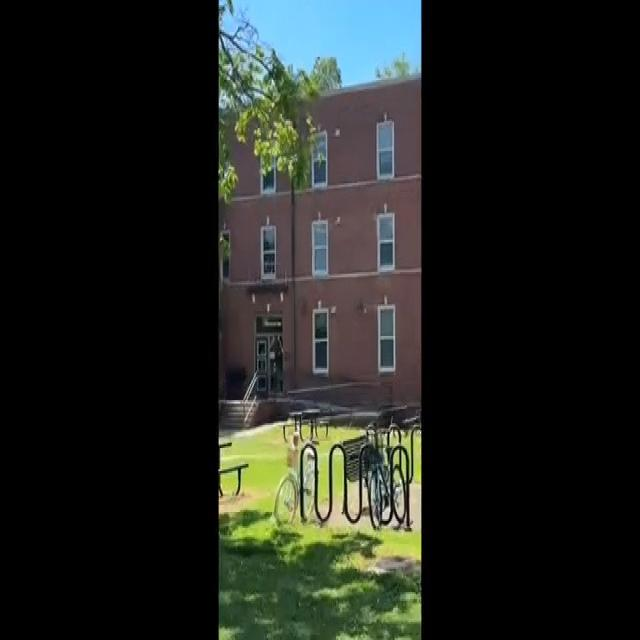drone: (267, 331, 289, 379)
